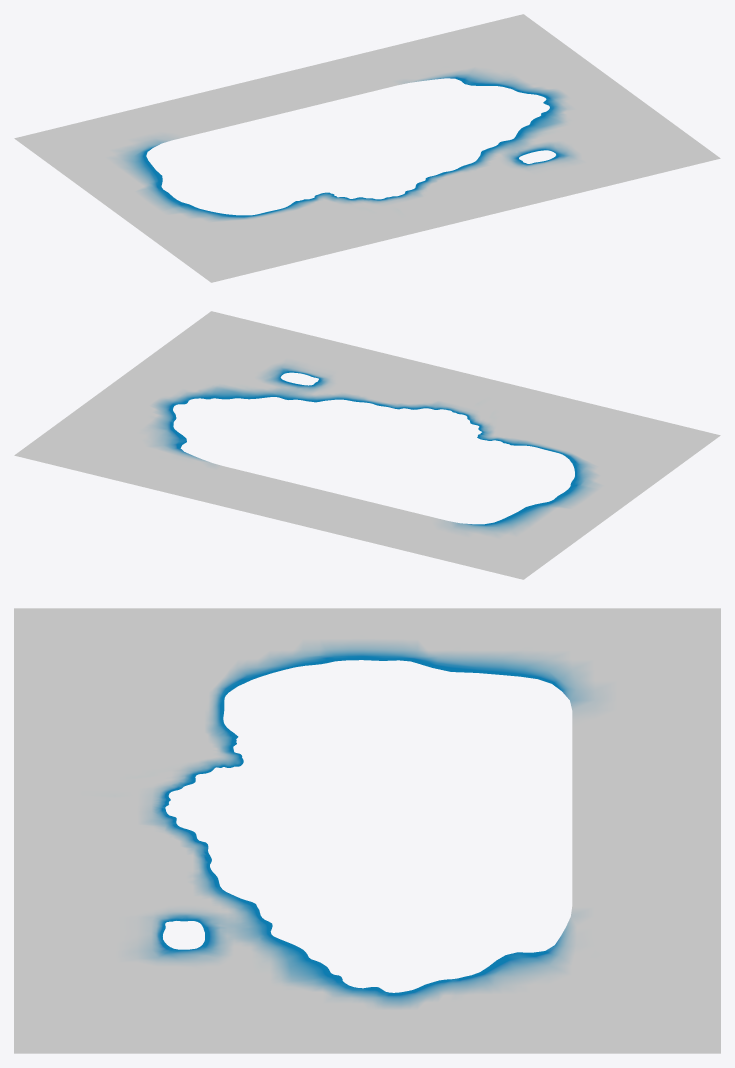
Rendered from hai-p-x2.FBX.
3 renders of one model, top to bottom at view 1: azimuth 30°, elevation 25°; view 2: azimuth 150°, elevation 25°; view 3: azimuth 270°, elevation 25°, orthographic. The views are drawn at different scales.
Parts seen in each view (by area): view 1: Plane028; view 2: Plane028; view 3: Plane028.
Boxes of the visible parts, bbox=[...] form: Plane028: bbox=[14, 14, 720, 282]; Plane028: bbox=[14, 311, 720, 579]; Plane028: bbox=[14, 608, 720, 1053].
Bounding box in the file's own units: 227 × 9.31e-15 × 152.
